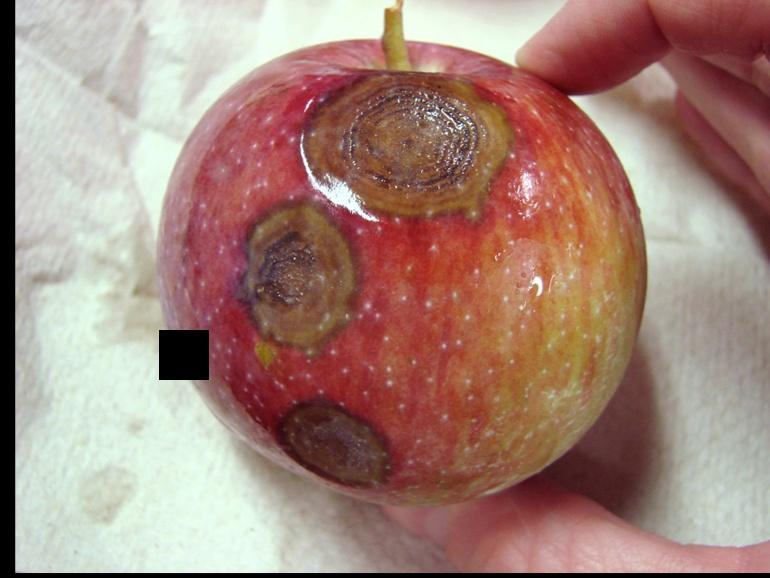rotten apple: (159, 35, 651, 502)
